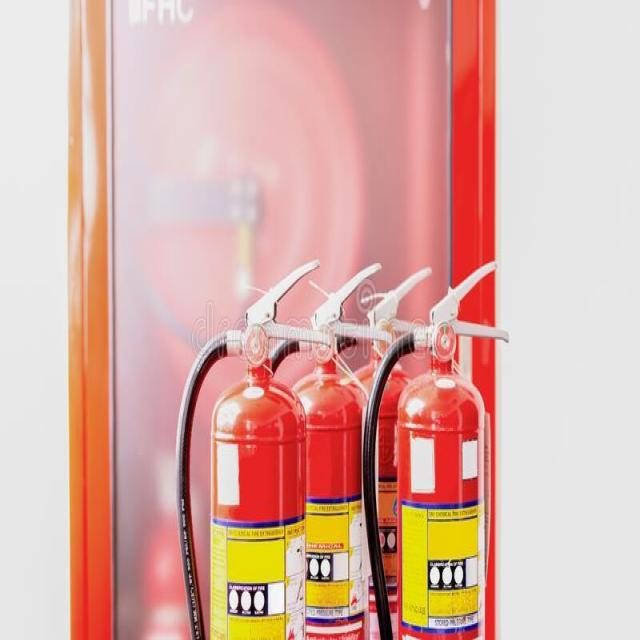fire_extinguisher: (172, 253, 335, 639), (358, 256, 514, 639), (242, 257, 396, 638), (317, 262, 448, 638)
